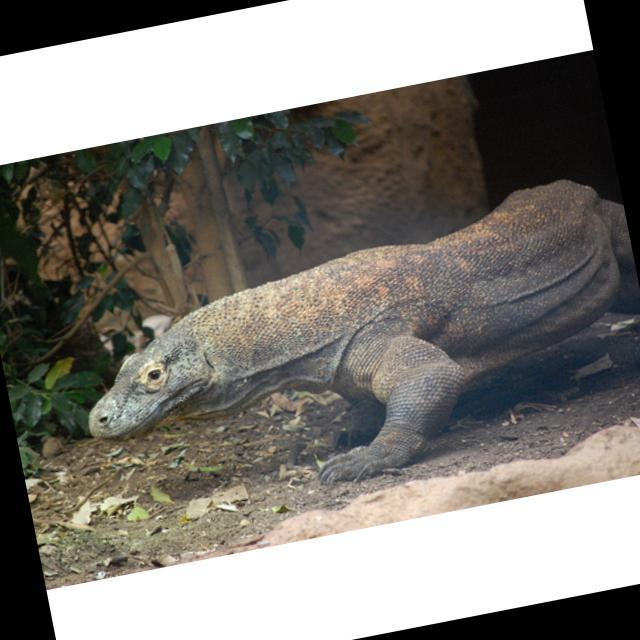KomodoDragon: (57, 170, 640, 530)
